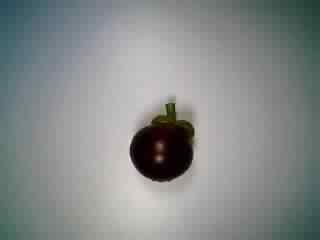mangosteen: (118, 99, 206, 185)
